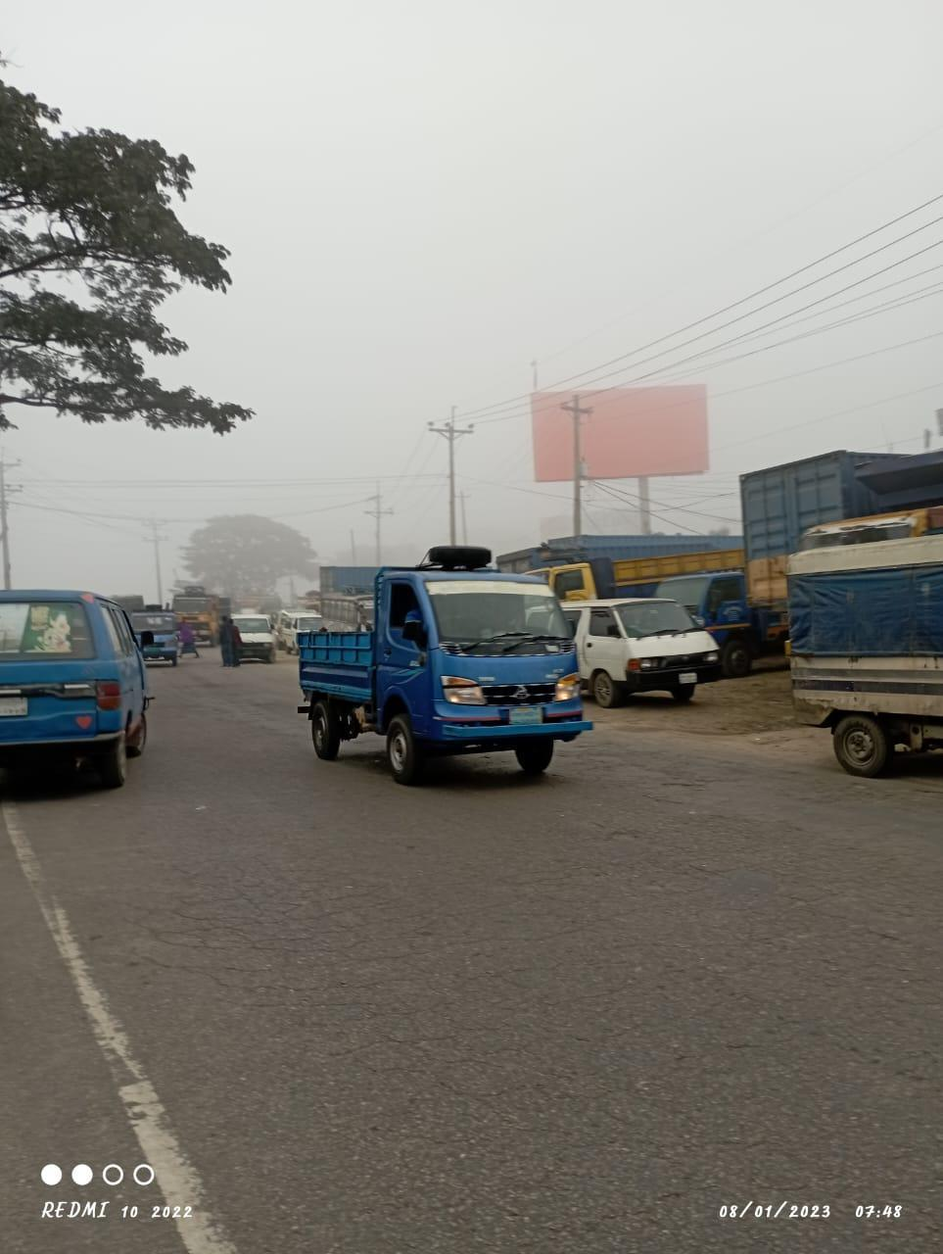Car: (776, 525, 943, 784), (1, 575, 163, 791), (574, 595, 725, 704), (220, 603, 283, 674)
Truck: (260, 544, 608, 780), (128, 599, 182, 665)
